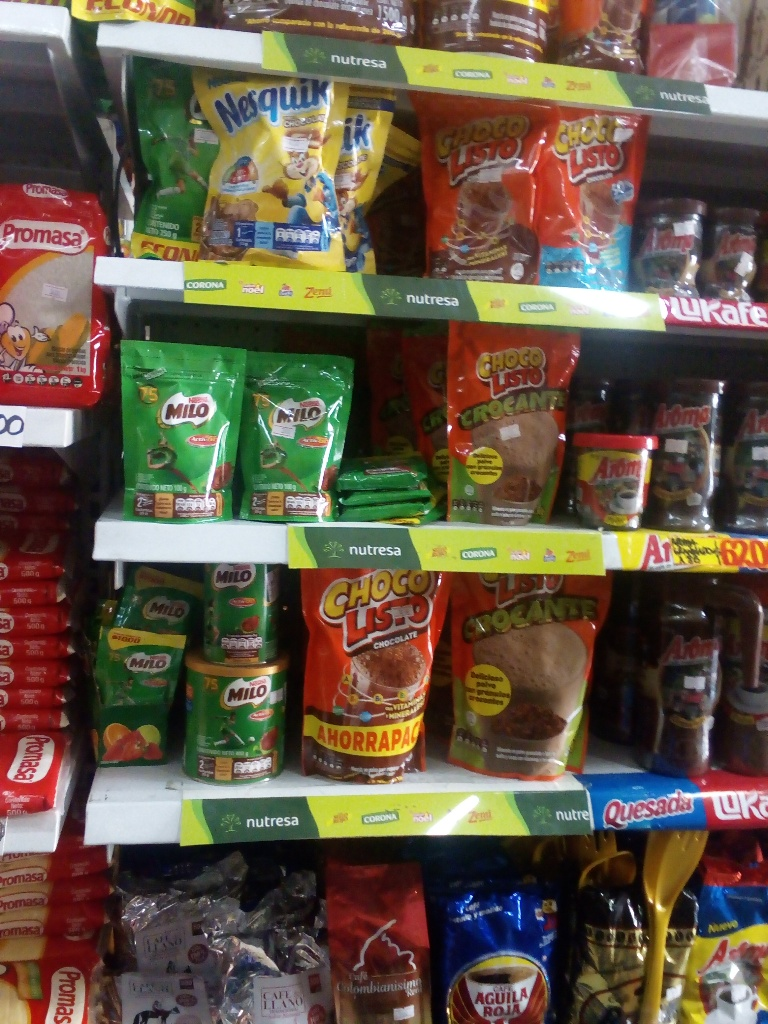COL0170102DYP50000: (455, 558, 619, 787)
COL0170103DYP44000: (299, 559, 453, 791)
COL0170104DYP20000: (540, 95, 642, 288)
COL0170203DYP10000: (112, 336, 249, 526)
COL0170203LAT20000: (201, 556, 284, 668)
COL0170203LAT40000: (179, 651, 293, 784)
COL0170303DYP20000: (193, 62, 349, 274)
